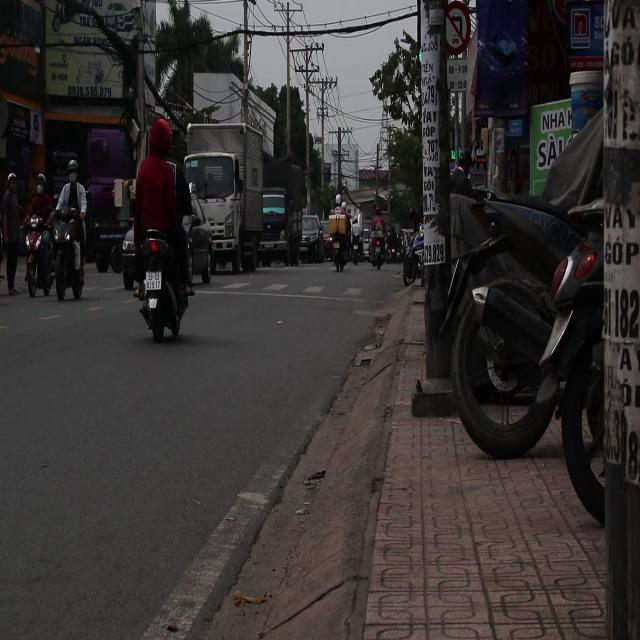car: (297, 215, 325, 262)
motorbike: (125, 206, 192, 344), (44, 200, 85, 313), (18, 200, 53, 310), (323, 205, 353, 280), (401, 233, 423, 285), (368, 222, 388, 270)
truck: (184, 122, 269, 274)
